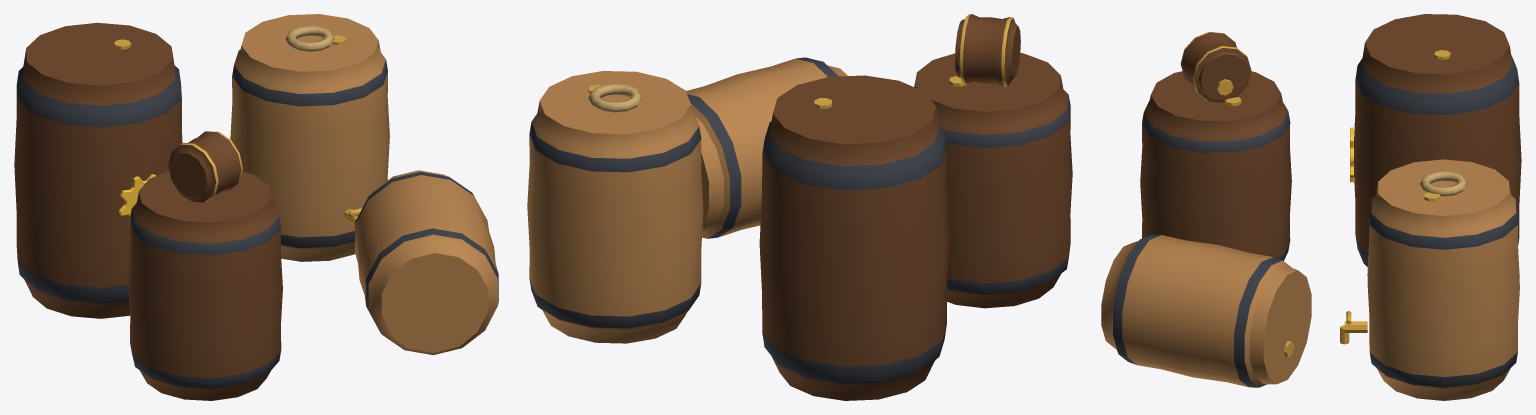
File: prop_barrels.glb
3 views of the same model, side by side, from view 1: azimuth 30°, elevation 25°; view 2: azimuth 150°, elevation 25°; view 3: azimuth 270°, elevation 25° (orthographic). The views are drawn at different scales.
Visible parts, largest first — view 1: Barrels; view 2: Barrels; view 3: Barrels.
Boxes of the visible parts, x1,y1,x2,y2 form: Barrels: (14, 14, 498, 400); Barrels: (527, 14, 1072, 400); Barrels: (1101, 14, 1521, 400).
Size of what is drawn, in the model's own units: 1.93 by 1.22 by 1.99.
